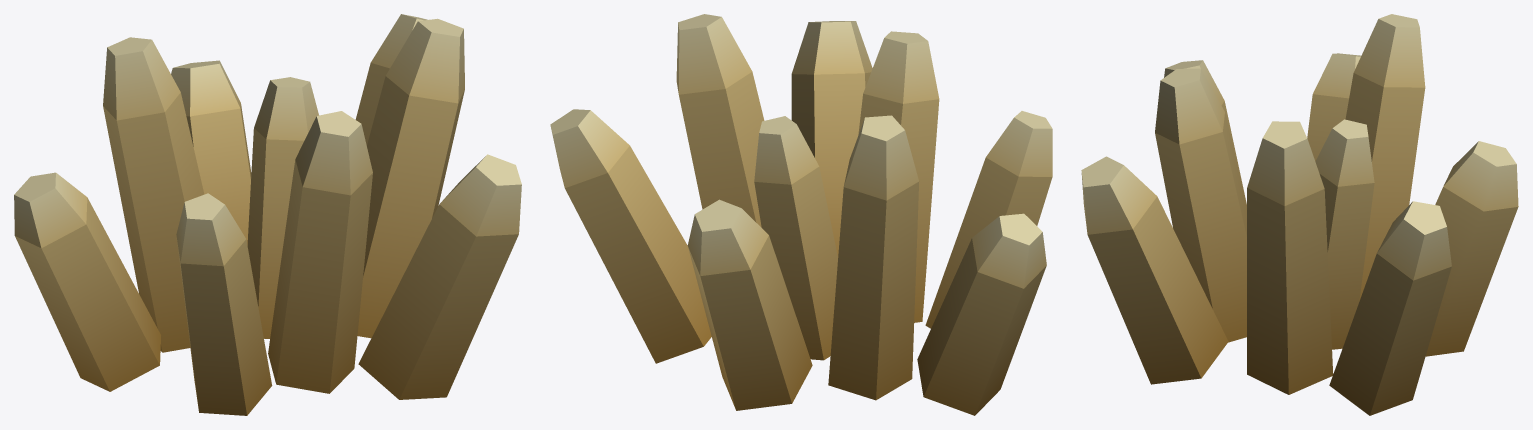
Rendered from coral-finger.glb.
3 views of the same model, side by side, from view 1: azimuth 30°, elevation 25°; view 2: azimuth 150°, elevation 25°; view 3: azimuth 270°, elevation 25° (orthographic). The views are drawn at different scales.
Parts seen in each view (by area): view 1: coral-finger_mesh; view 2: coral-finger_mesh; view 3: coral-finger_mesh.
Boxes of the visible parts, box(x1,y1,x2,y2) form: coral-finger_mesh: box(14, 14, 521, 415); coral-finger_mesh: box(550, 14, 1052, 415); coral-finger_mesh: box(1081, 14, 1518, 415).
Bounding box in the file's own units: 0.6947 × 0.4382 × 0.6069.
